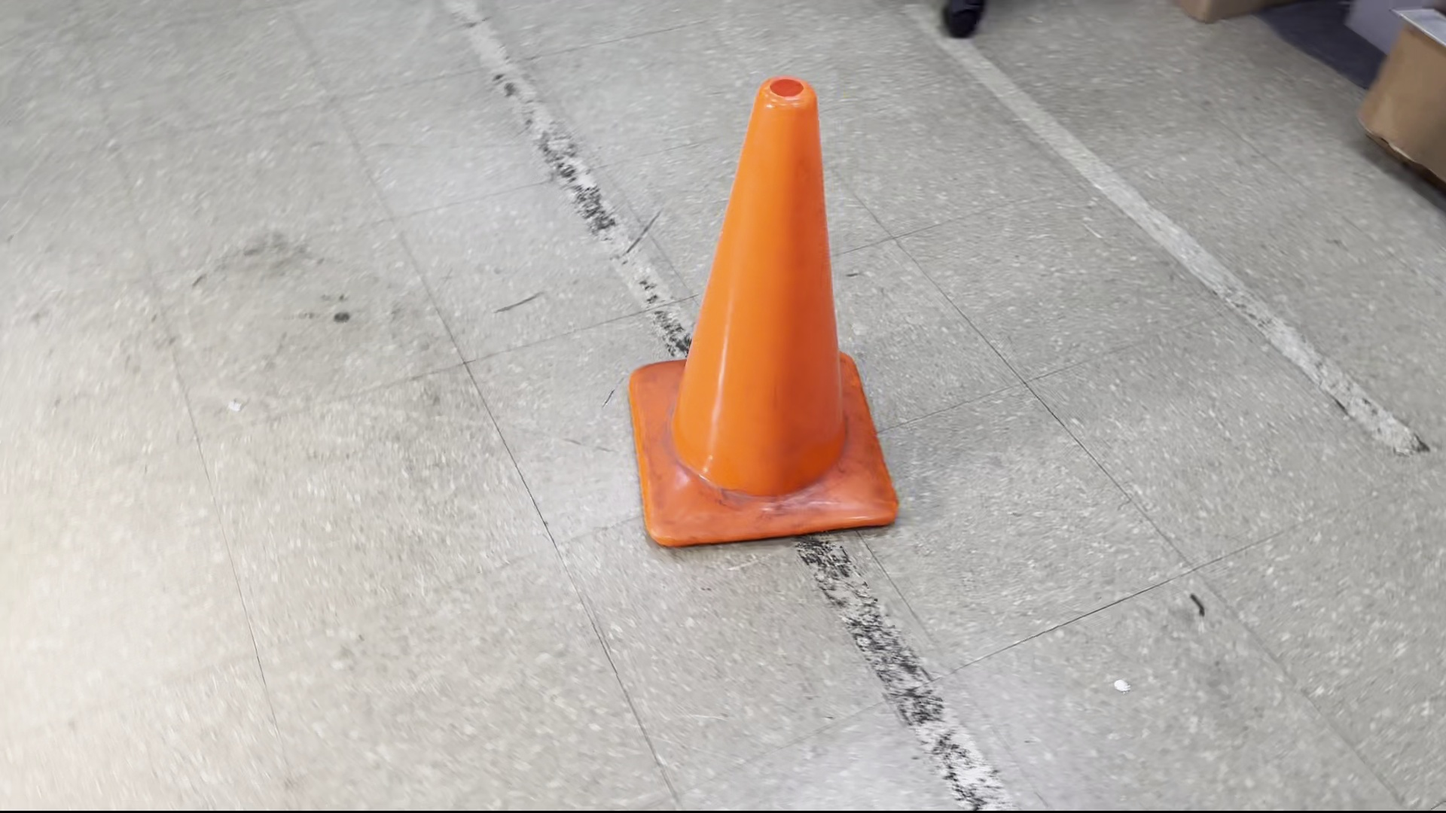traffic_cone: (627, 75, 899, 549)
